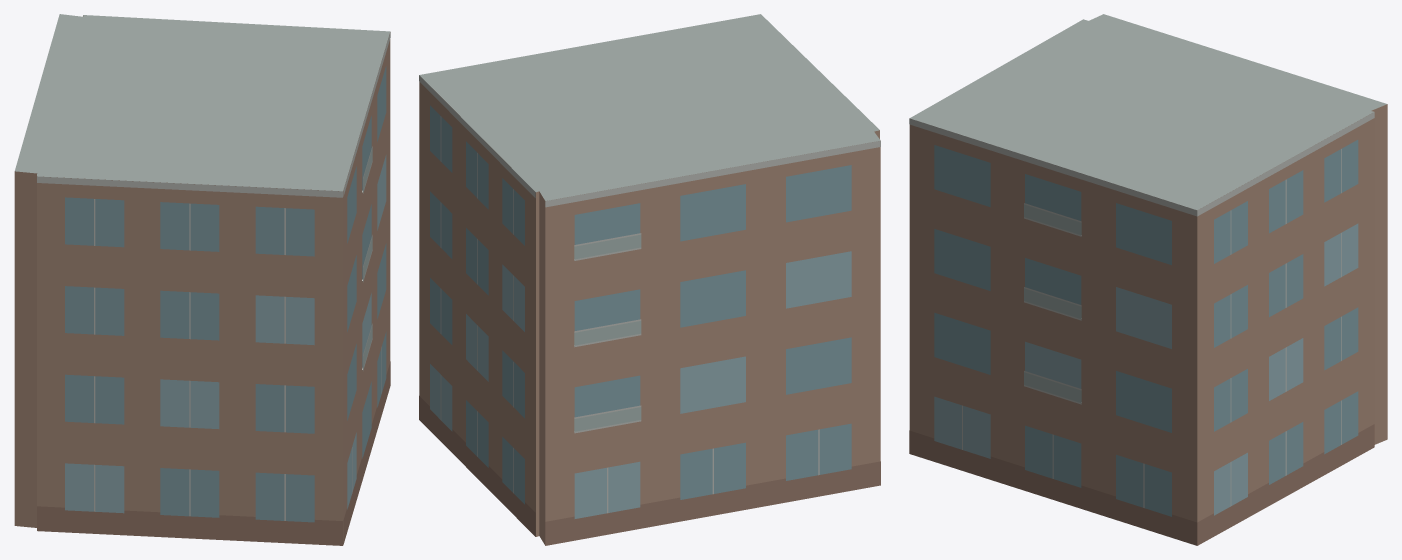
The model's file is survey-upis-32628390.glb.
The picture shows the model from 3 angles, left to right: view 1: azimuth 30°, elevation 25°; view 2: azimuth 150°, elevation 25°; view 3: azimuth 270°, elevation 25°; orthographic projection. The views are drawn at different scales.
Parts seen in each view (by area): view 1: survey-upis-32628390.tmp; view 2: survey-upis-32628390.tmp; view 3: survey-upis-32628390.tmp.
Boxes of the visible parts, <box> form: survey-upis-32628390.tmp: <box>14,14,390,545</box>; survey-upis-32628390.tmp: <box>419,14,880,545</box>; survey-upis-32628390.tmp: <box>909,14,1387,545</box>.
Bounding box in the file's own units: 16.7 × 13.3 × 17.18.
